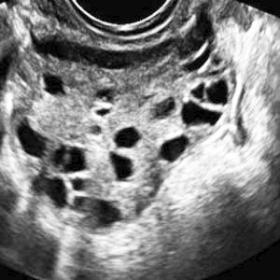PCOS: (76, 192, 120, 227), (55, 143, 91, 173), (20, 119, 45, 160), (40, 169, 65, 207), (186, 102, 221, 129), (117, 122, 142, 146), (114, 152, 133, 181), (163, 136, 188, 158), (40, 74, 66, 94), (207, 82, 228, 106), (70, 172, 88, 197), (99, 90, 120, 101), (156, 100, 170, 116), (92, 120, 102, 138), (95, 108, 115, 116), (196, 88, 205, 102)
